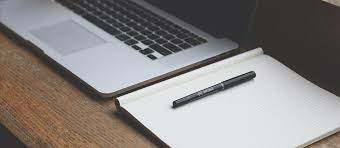pen: (173, 69, 256, 107)
